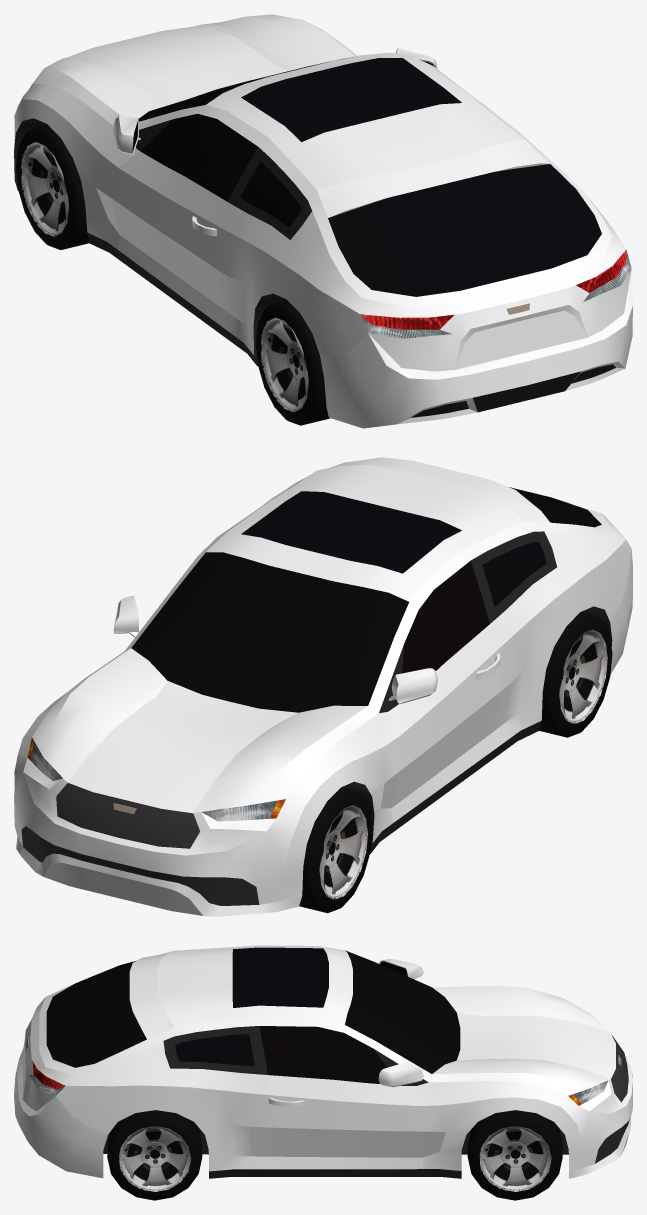
Rendered from aq-hatchback-low.glb.
3 renders of one model, top to bottom at view 1: azimuth 30°, elevation 25°; view 2: azimuth 150°, elevation 25°; view 3: azimuth 270°, elevation 25°, orthographic. The views are drawn at different scales.
Visible parts, largest first — view 1: hatchback-low-paint.001, hatchback-low-windows.001, hatchback-low-blackparts.001, hatchback-low-tire.005, hatchback-low-rim.005, hatchback-low-tire.006, hatchback-low-rim.004, hatchback-low-taillights.001, hatchback-low-headlights.001, hatchback-low-silvertrim; view 2: hatchback-low-paint.001, hatchback-low-windows.001, hatchback-low-grills.001, hatchback-low-blackparts.001, hatchback-low-tire.006, hatchback-low-tire.005, hatchback-low-rim.004, hatchback-low-rim.005, hatchback-low-headlights.001; view 3: hatchback-low-paint.001, hatchback-low-windows.001, hatchback-low-blackparts.001, hatchback-low-rim.006, hatchback-low-rim.007, hatchback-low-tire.004, hatchback-low-tire.007, hatchback-low-grills.001, hatchback-low-headlights.001.
Part boxes in pixels (x1,y1,x2,y2): hatchback-low-paint.001: (14, 14, 632, 428); hatchback-low-windows.001: (132, 57, 601, 296); hatchback-low-blackparts.001: (14, 118, 615, 417); hatchback-low-tire.005: (16, 124, 89, 249); hatchback-low-rim.005: (260, 317, 308, 412); hatchback-low-tire.006: (255, 300, 330, 425); hatchback-low-rim.004: (20, 142, 68, 236); hatchback-low-taillights.001: (360, 250, 626, 329); hatchback-low-headlights.001: (360, 250, 631, 338); hatchback-low-silvertrim: (397, 361, 624, 424); hatchback-low-paint.001: (14, 457, 632, 916); hatchback-low-windows.001: (131, 487, 601, 712); hatchback-low-grills.001: (21, 783, 259, 905); hatchback-low-blackparts.001: (342, 531, 612, 853); hatchback-low-tire.006: (539, 612, 612, 737); hatchback-low-tire.005: (299, 787, 372, 913); hatchback-low-rim.004: (319, 805, 367, 899); hatchback-low-rim.005: (559, 629, 607, 724); hatchback-low-headlights.001: (30, 741, 277, 821); hatchback-low-paint.001: (14, 945, 632, 1178); hatchback-low-windows.001: (46, 947, 460, 1085); hatchback-low-blackparts.001: (103, 1026, 568, 1178); hatchback-low-rim.006: (118, 1126, 191, 1191); hatchback-low-rim.007: (479, 1126, 551, 1191); hatchback-low-tire.004: (467, 1110, 562, 1200); hatchback-low-tire.007: (107, 1110, 202, 1200); hatchback-low-grills.001: (595, 1034, 631, 1163); hatchback-low-headlights.001: (29, 1074, 608, 1103).
Size of the model in its own units: 1.84 by 1.29 by 4.15.
8 materials, 6 textured.
